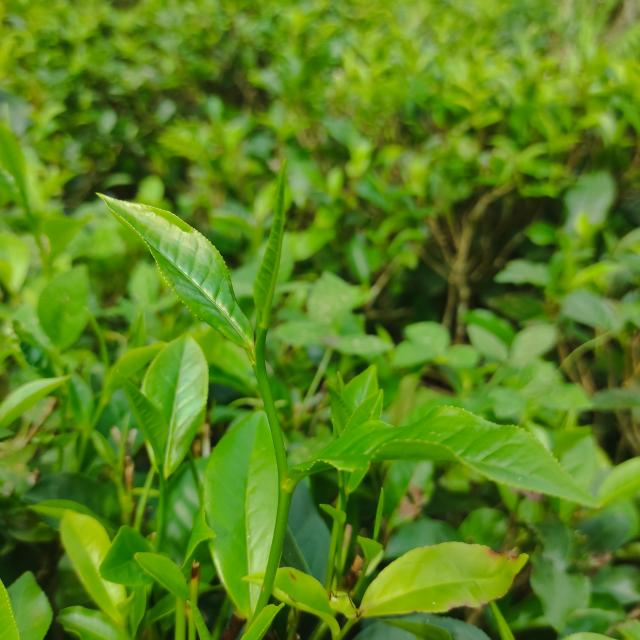unopened_leaf: (239, 148, 305, 344), (369, 478, 393, 539)
